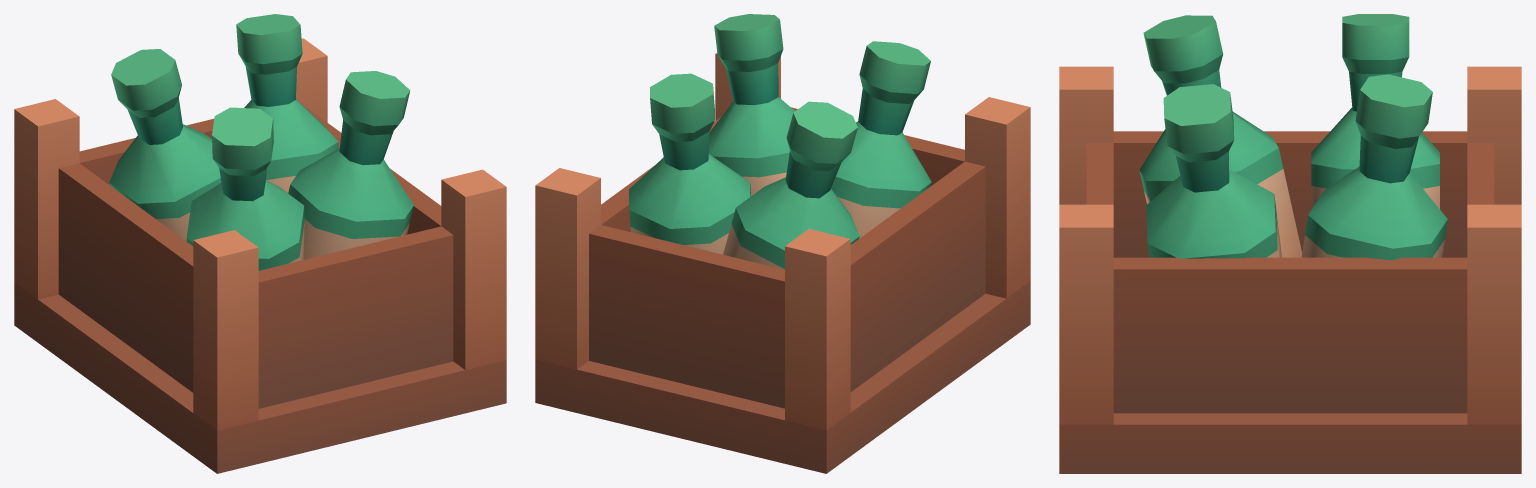
Rendered from crate-bottles.glb.
3 renders of one model, left to right at view 1: azimuth 30°, elevation 25°; view 2: azimuth 150°, elevation 25°; view 3: azimuth 270°, elevation 25°, orthographic. The views are drawn at different scales.
Parts seen in each view (by area): view 1: crate-bottles; view 2: crate-bottles; view 3: crate-bottles.
Part boxes in pixels (<box>): crate-bottles: <box>14,14,506,473</box>; crate-bottles: <box>535,14,1030,473</box>; crate-bottles: <box>1059,14,1521,473</box>.
Size of the model in its own units: 1.08 by 1.06 by 1.31.
1 material, 1 textured.
